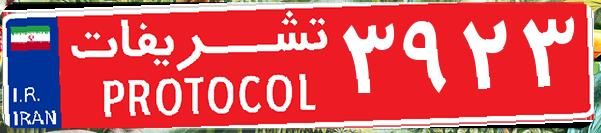2: (460, 20, 520, 115)
3: (340, 20, 400, 115), (520, 20, 580, 115)
9: (400, 20, 460, 115)
تشریفات: (60, 8, 340, 125)
